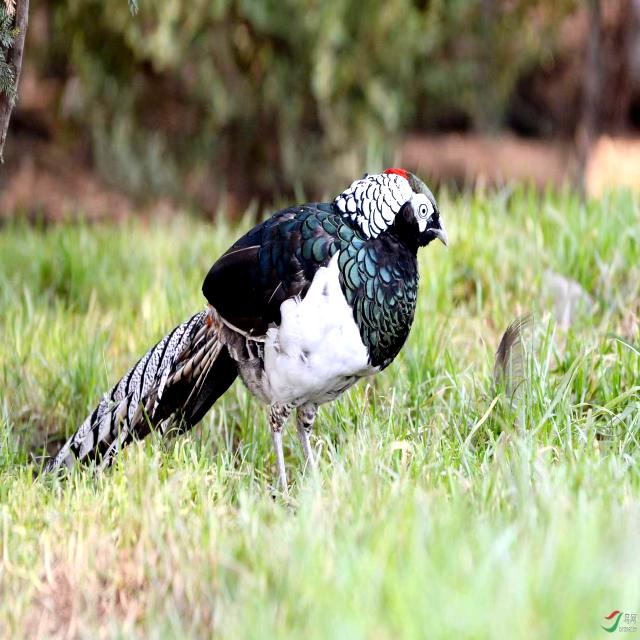Chrysolophus amherstiae: (45, 308, 237, 471)
